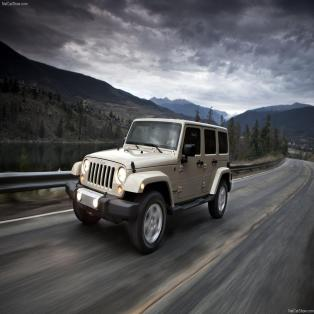Auto: (63, 114, 237, 257)
